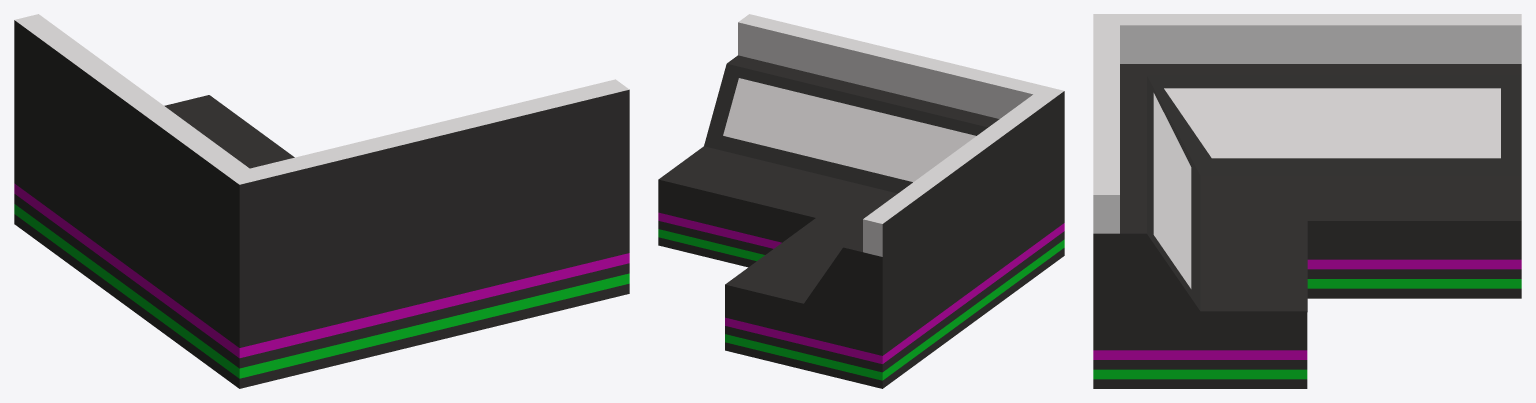
The model's file is Booth Corner.fbx.
The picture shows the model from 3 angles, left to right: view 1: azimuth 30°, elevation 25°; view 2: azimuth 150°, elevation 25°; view 3: azimuth 270°, elevation 25°; orthographic projection. The views are drawn at different scales.
Visible parts, largest first — view 1: Booth Corner; view 2: Booth Corner; view 3: Booth Corner.
Part boxes in pixels (x1,y1,x2,y2): Booth Corner: (14,14,629,388); Booth Corner: (658,14,1064,388); Booth Corner: (1093,14,1521,388).
Bounding box in the file's own units: 2000 × 1000 × 2000.
